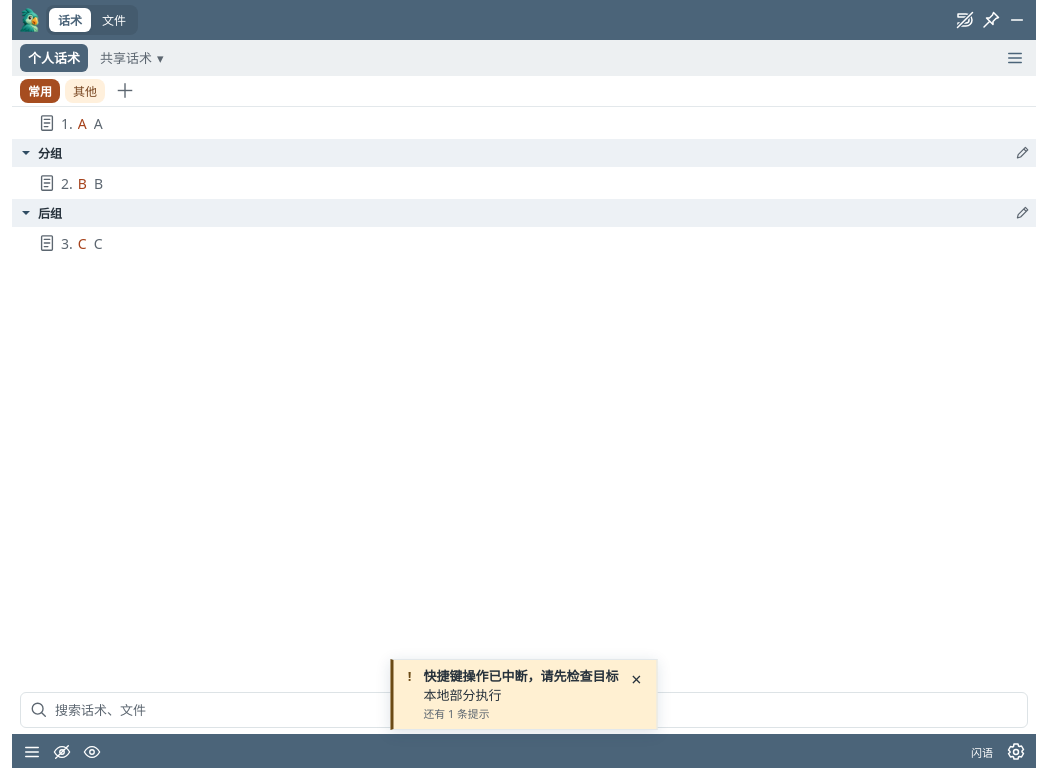
Scenario: 未执行的回执不能借用另一条部分执行警告的标题
This screenshot has width=1048, height=768.
Check: the message shows "快捷键操作已中断", box [424,667,618,685]
Check: the message shows "还有 1 条提示", box [390,659,658,730]
Click the button named "关闭提示".
click(636, 679)  # box [624,667,648,691]
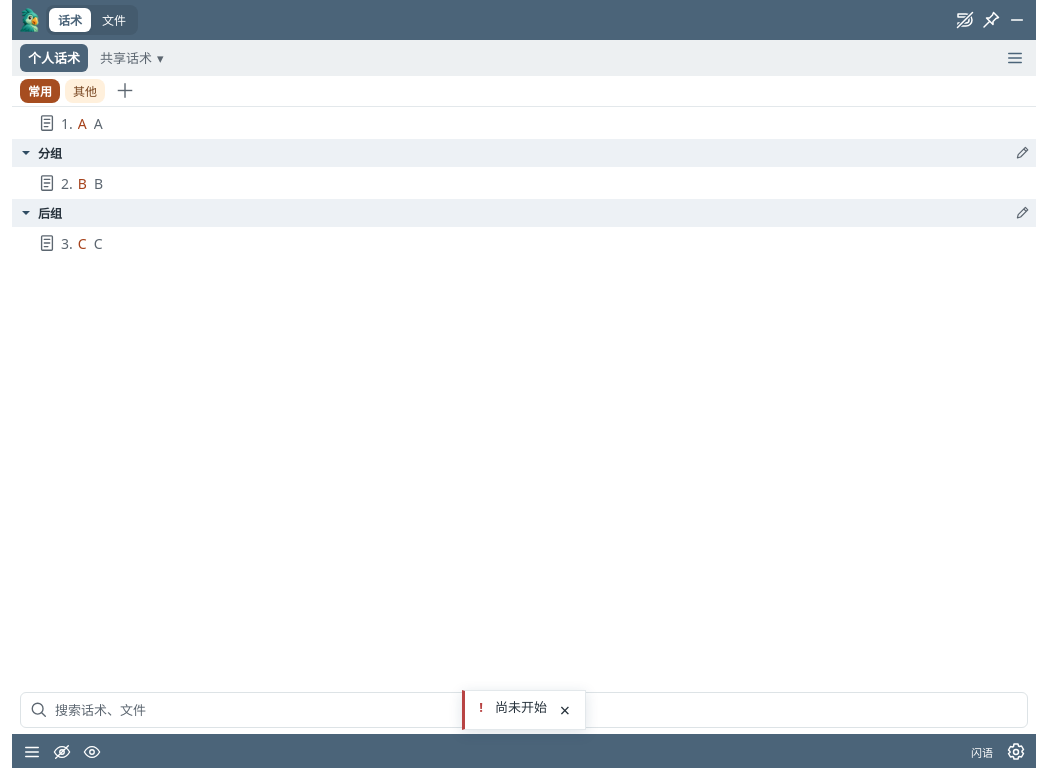
Check: the message shows "尚未开始", box [495,698,547,716]
Check: the text "快捷键操作已中断" is gone
